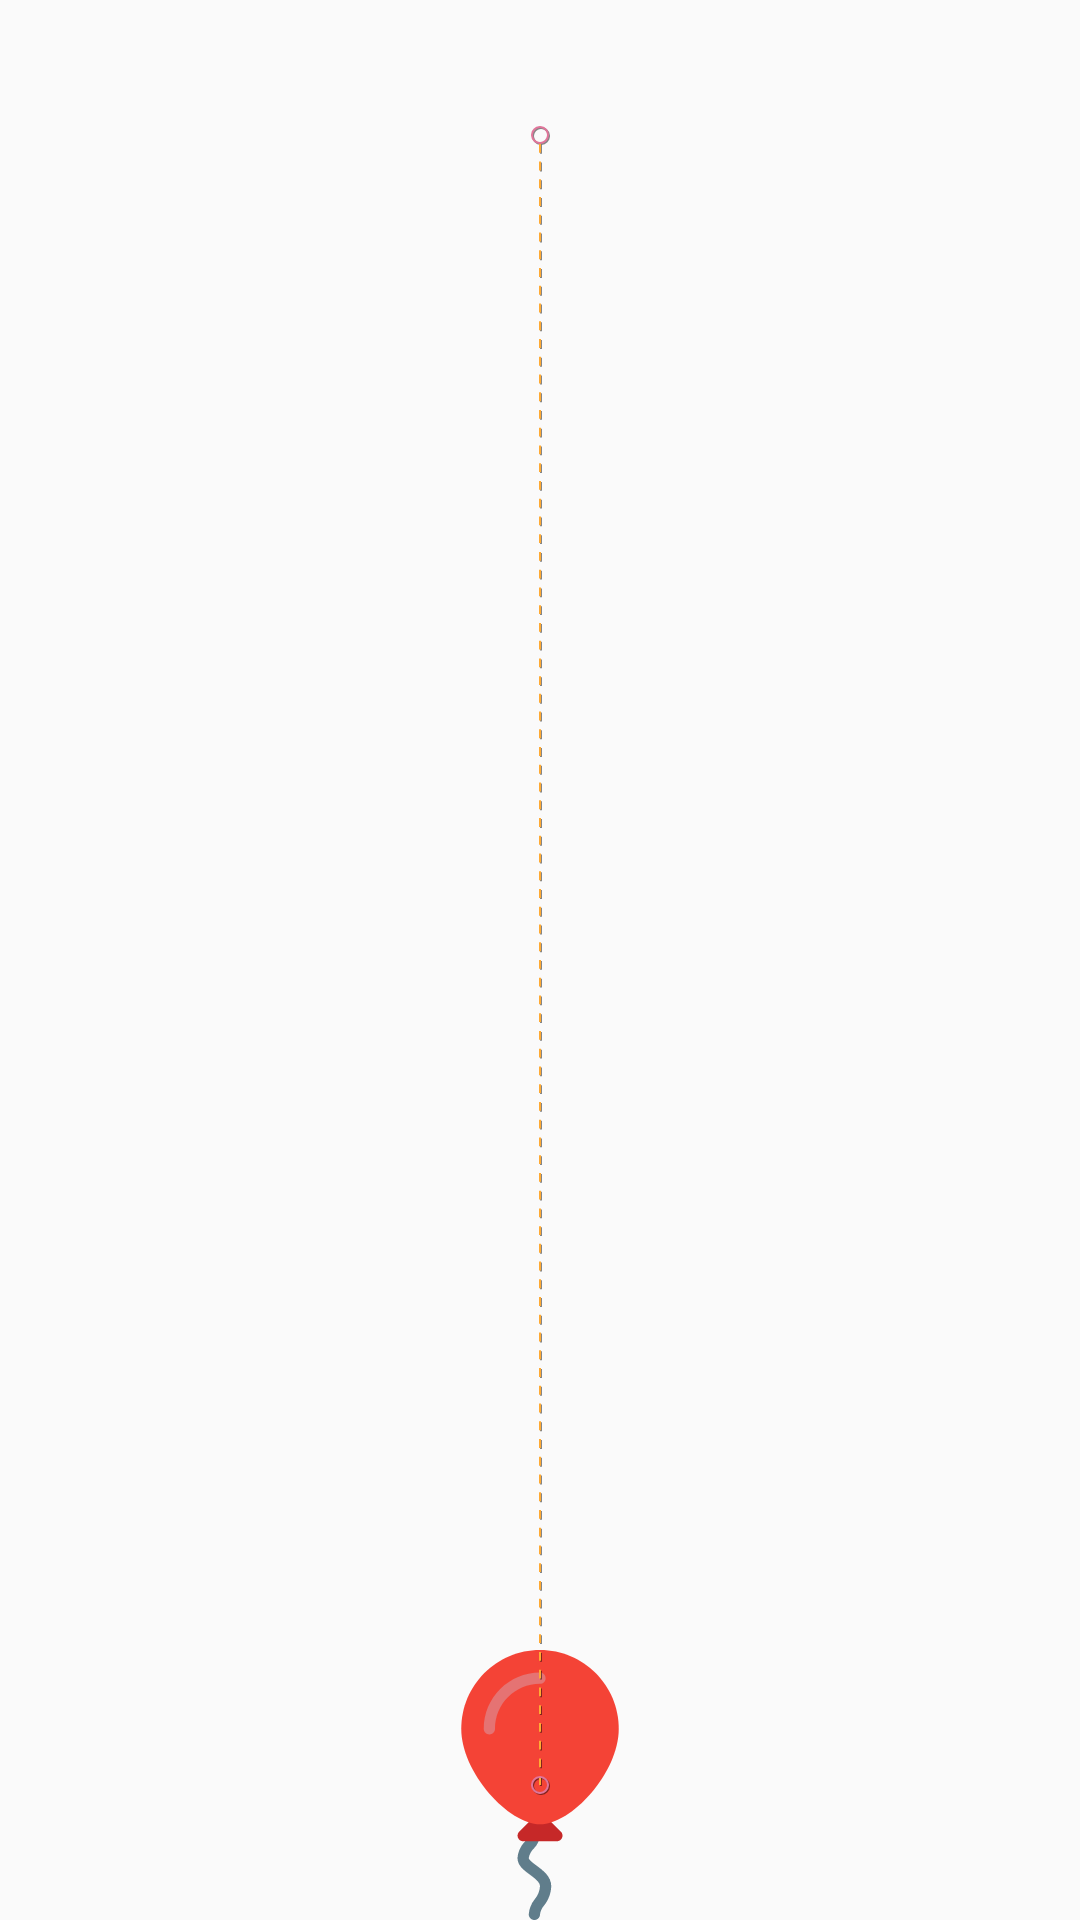

Icon bounding boxes for this 1080*1920 phone screenshot, format (x1, y1, x2, y2):
balloon: (461, 1650, 619, 1920)
